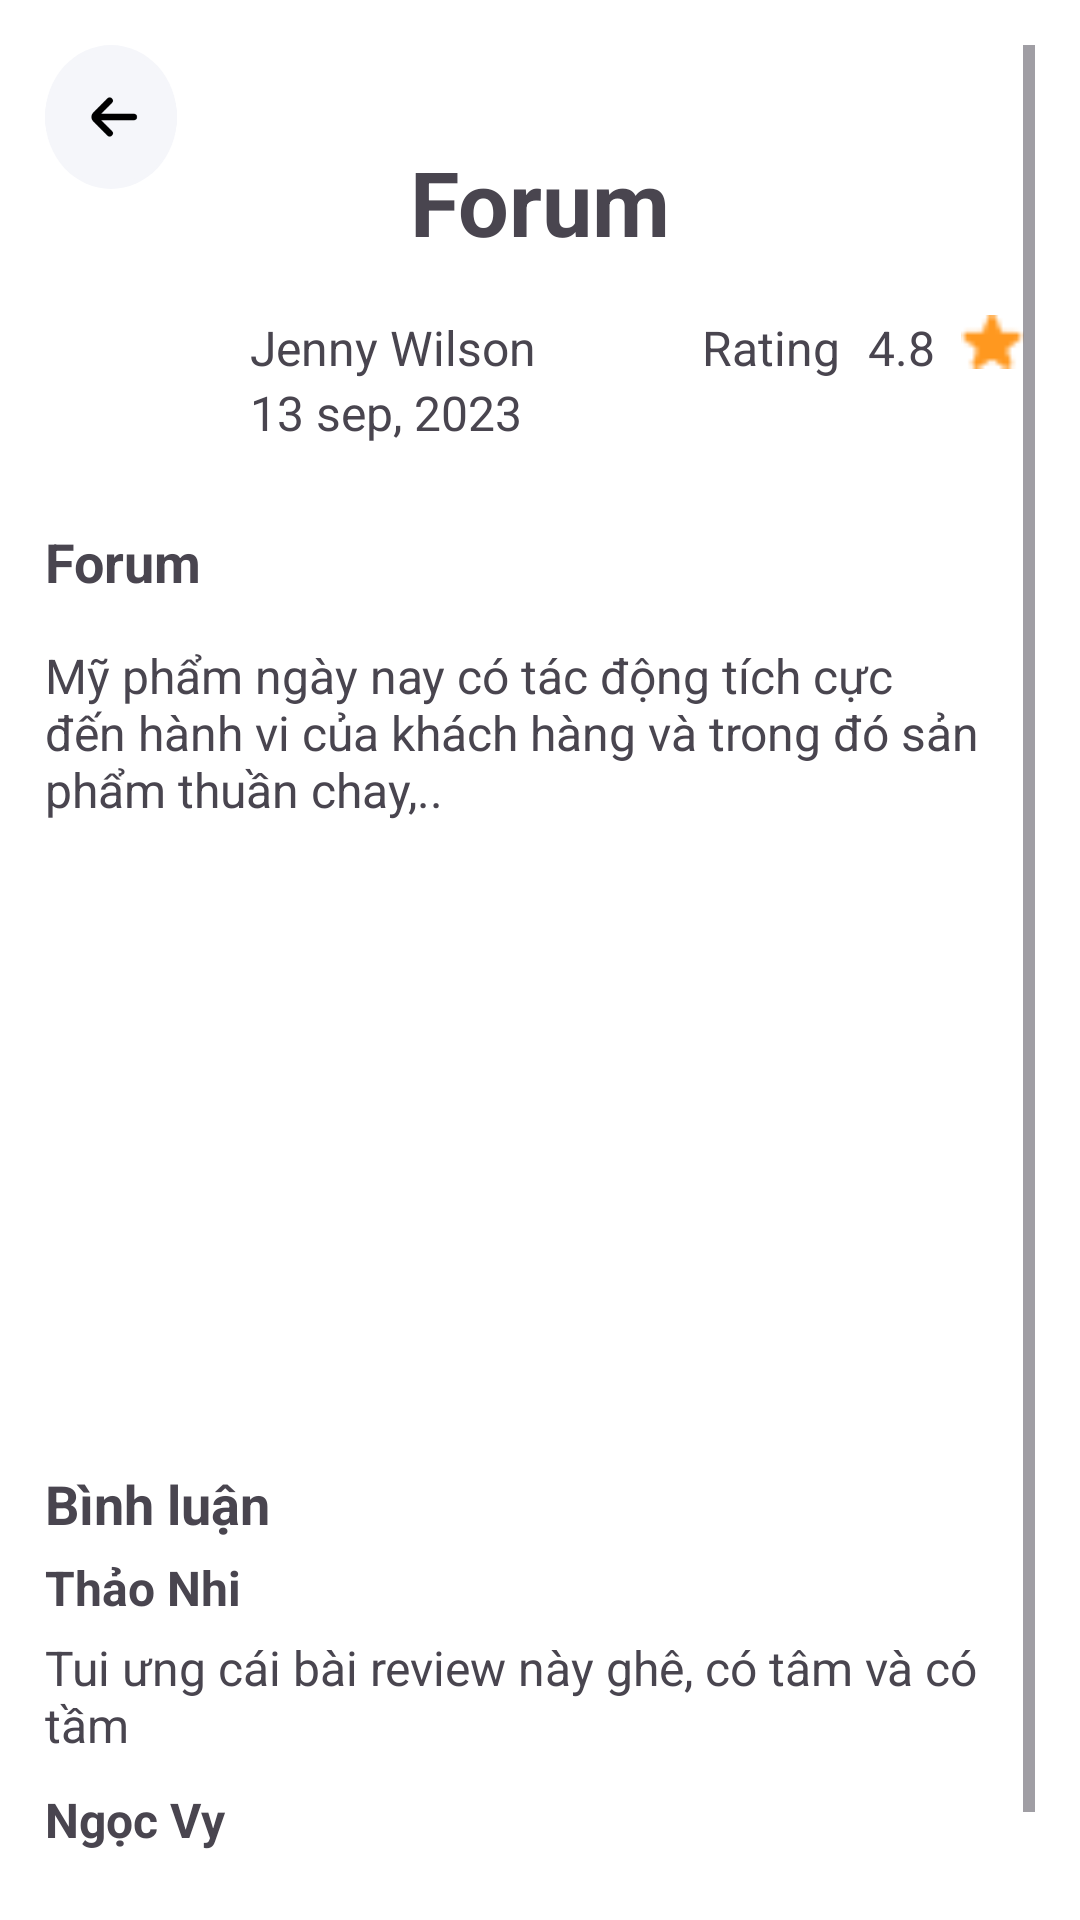

Where to tap for icons on this 1080 x 1920 app screen, as point (x, y):
back: point (111, 117)
star: point (998, 342)
